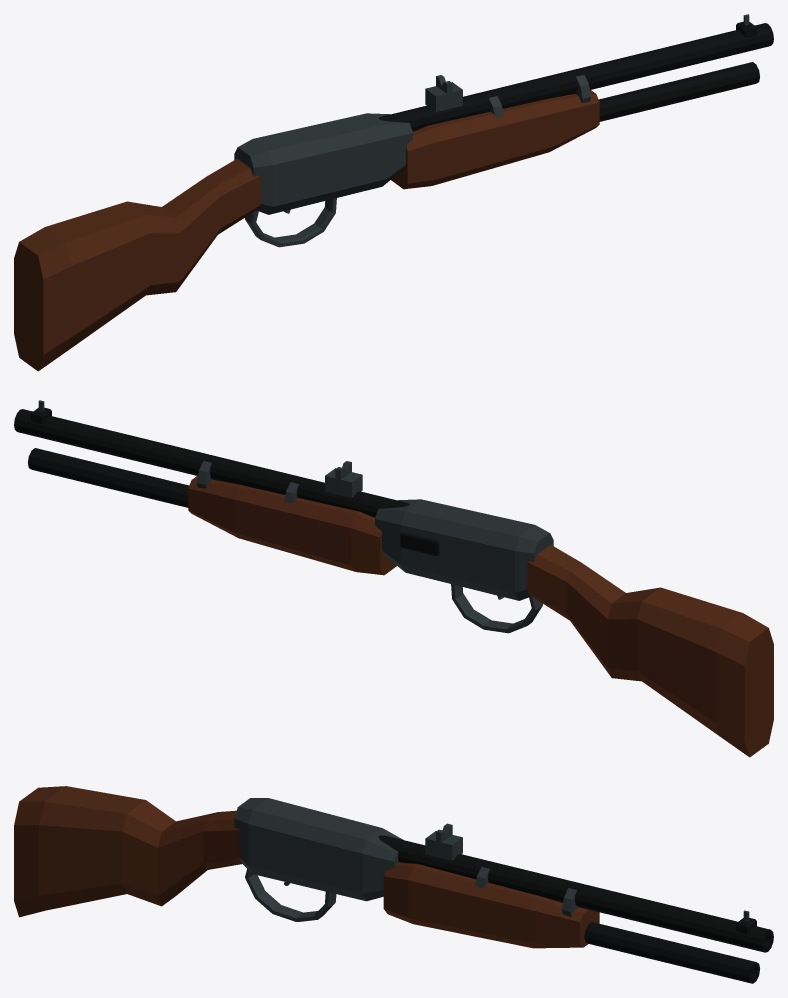
The model's file is CE_Gun_WinchesterEightySix.obj.
3 views of the same model, one above another, from view 1: azimuth 30°, elevation 25°; view 2: azimuth 150°, elevation 25°; view 3: azimuth 330°, elevation 25° (orthographic).
Visible parts, largest first — view 1: WinchesterEightySix_unique_walnut_stock, 1886_rounded_compact_metal_receiver, 1886_separate_short_oval_forewood, WinchesterEightySix_long_dark_bore, 1886_separate_tubular_magazine, 1886_close_fitting_lever_handle, R3_1886_Barrel_Mounted_Rear_Base; view 2: WinchesterEightySix_unique_walnut_stock, 1886_rounded_compact_metal_receiver, 1886_separate_short_oval_forewood, WinchesterEightySix_long_dark_bore, 1886_separate_tubular_magazine, 1886_close_fitting_lever_handle, R3_1886_Barrel_Mounted_Rear_Base, 1886_source-visible_loading_gate; view 3: WinchesterEightySix_unique_walnut_stock, 1886_rounded_compact_metal_receiver, 1886_separate_short_oval_forewood, WinchesterEightySix_long_dark_bore, 1886_separate_tubular_magazine, 1886_close_fitting_lever_handle, R3_1886_Barrel_Mounted_Rear_Base.
Boxes of the visible parts, box(x1,y1,x2,y2) form: WinchesterEightySix_unique_walnut_stock: box(14, 159, 260, 371); 1886_rounded_compact_metal_receiver: box(234, 113, 412, 214); 1886_separate_short_oval_forewood: box(391, 90, 599, 189); WinchesterEightySix_long_dark_bore: box(378, 23, 773, 131); 1886_separate_tubular_magazine: box(598, 62, 759, 121); 1886_close_fitting_lever_handle: box(245, 198, 336, 247); R3_1886_Barrel_Mounted_Rear_Base: box(425, 82, 462, 111); WinchesterEightySix_unique_walnut_stock: box(527, 545, 773, 757); 1886_rounded_compact_metal_receiver: box(375, 499, 553, 600); 1886_separate_short_oval_forewood: box(188, 476, 396, 575); WinchesterEightySix_long_dark_bore: box(14, 409, 409, 517); 1886_separate_tubular_magazine: box(28, 448, 189, 507); 1886_close_fitting_lever_handle: box(451, 584, 542, 633); R3_1886_Barrel_Mounted_Rear_Base: box(325, 468, 362, 497); 1886_source-visible_loading_gate: box(400, 532, 439, 556); WinchesterEightySix_unique_walnut_stock: box(14, 786, 242, 917); 1886_rounded_compact_metal_receiver: box(234, 798, 403, 901); 1886_separate_short_oval_forewood: box(383, 862, 599, 948); WinchesterEightySix_long_dark_bore: box(378, 835, 773, 952); 1886_separate_tubular_magazine: box(584, 922, 759, 983); 1886_close_fitting_lever_handle: box(245, 869, 336, 921); R3_1886_Barrel_Mounted_Rear_Base: box(425, 831, 462, 860).
Bounding box in the file's own units: 1.37 × 0.325 × 0.106.
